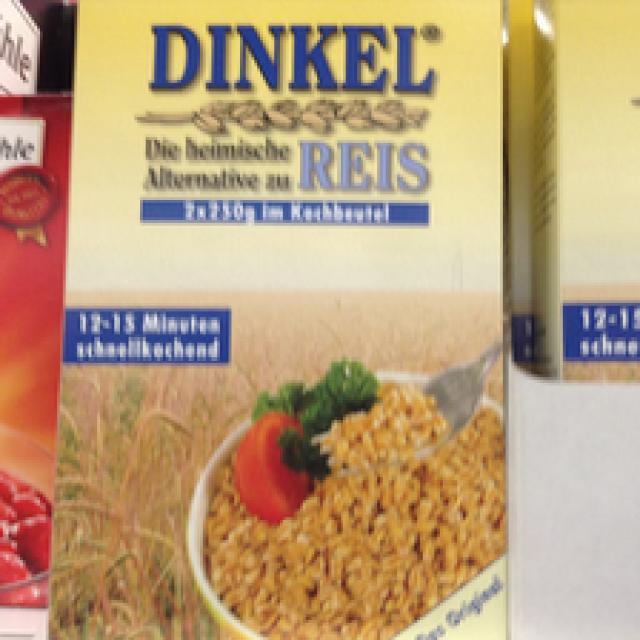groceries: (45, 0, 508, 634)
